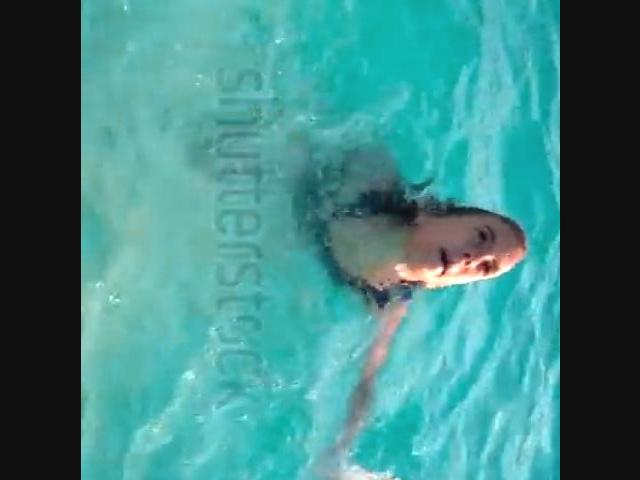drowning: (248, 153, 550, 388)
